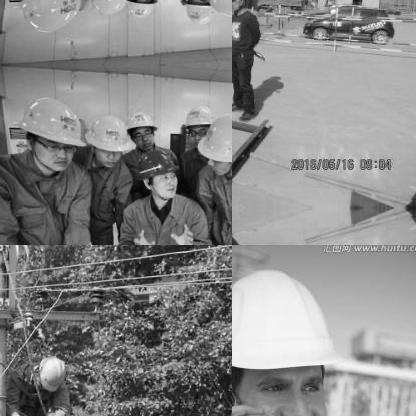Helmet: (232, 246, 368, 415), (12, 95, 80, 171), (134, 145, 182, 202), (84, 109, 127, 165), (12, 0, 81, 33), (121, 103, 159, 151), (180, 98, 218, 146), (202, 112, 231, 172), (34, 352, 66, 396), (179, 0, 220, 30), (120, 0, 160, 25), (84, 0, 129, 19), (201, 0, 231, 15), (232, 0, 251, 13)
